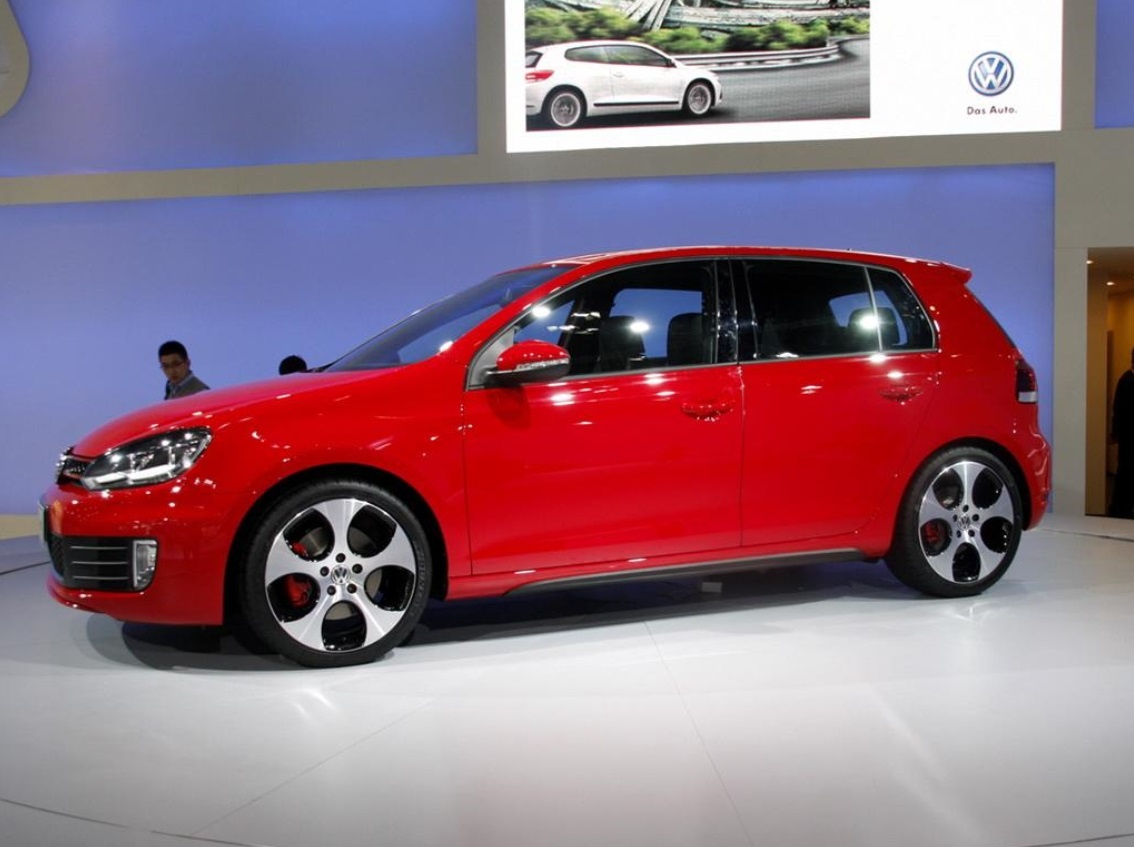family sedan: (50, 217, 1042, 670)
